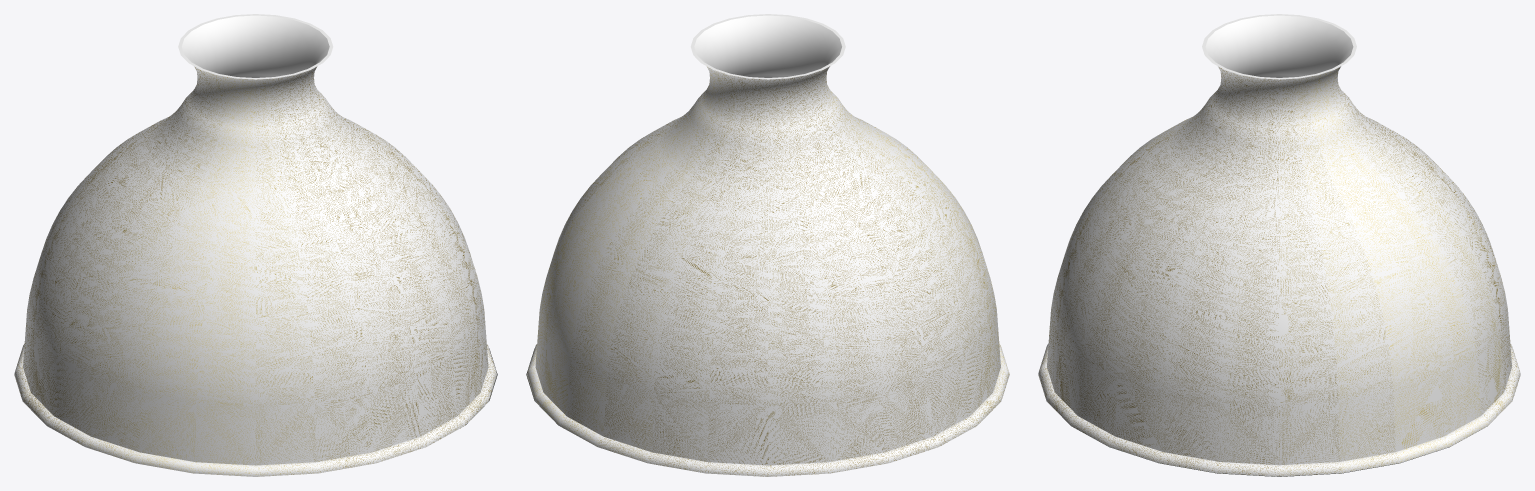
Rendered from TableTop Bell.dae.
3 renders of one model, left to right at view 1: azimuth 30°, elevation 25°; view 2: azimuth 150°, elevation 25°; view 3: azimuth 270°, elevation 25°, orthographic.
Visible parts, largest first — view 1: metal_bell_shade (×3); view 2: metal_bell_shade (×3); view 3: metal_bell_shade (×3).
Part boxes in pixels (bbox=[...]): metal_bell_shade (×3): bbox=[14, 14, 496, 476]; metal_bell_shade (×3): bbox=[527, 14, 1009, 476]; metal_bell_shade (×3): bbox=[1038, 14, 1520, 476].
Size of the model in its own units: 7.01 by 7 by 5.25.
4 materials, 1 textured.
